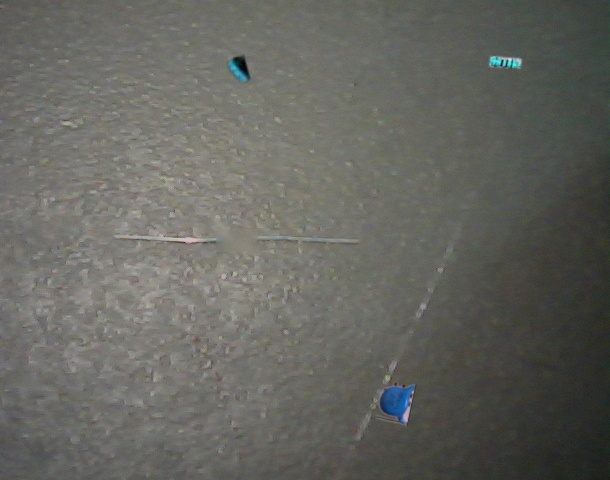capacitor: (376, 383, 415, 425), (227, 55, 250, 82)
resistor: (489, 56, 521, 69)
